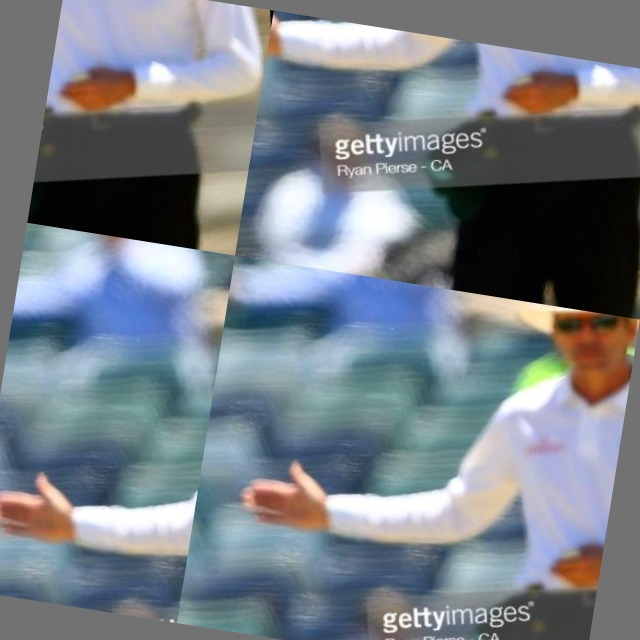No_Ball: (177, 256, 640, 640)
Out: (50, 0, 149, 92)
Wide: (235, 11, 640, 320), (0, 223, 235, 588)
